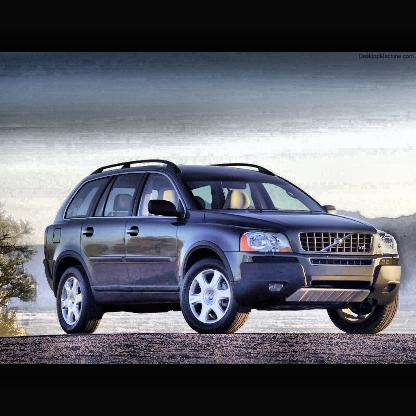Volvo XC90 SUV 2007: (46, 161, 401, 337)
